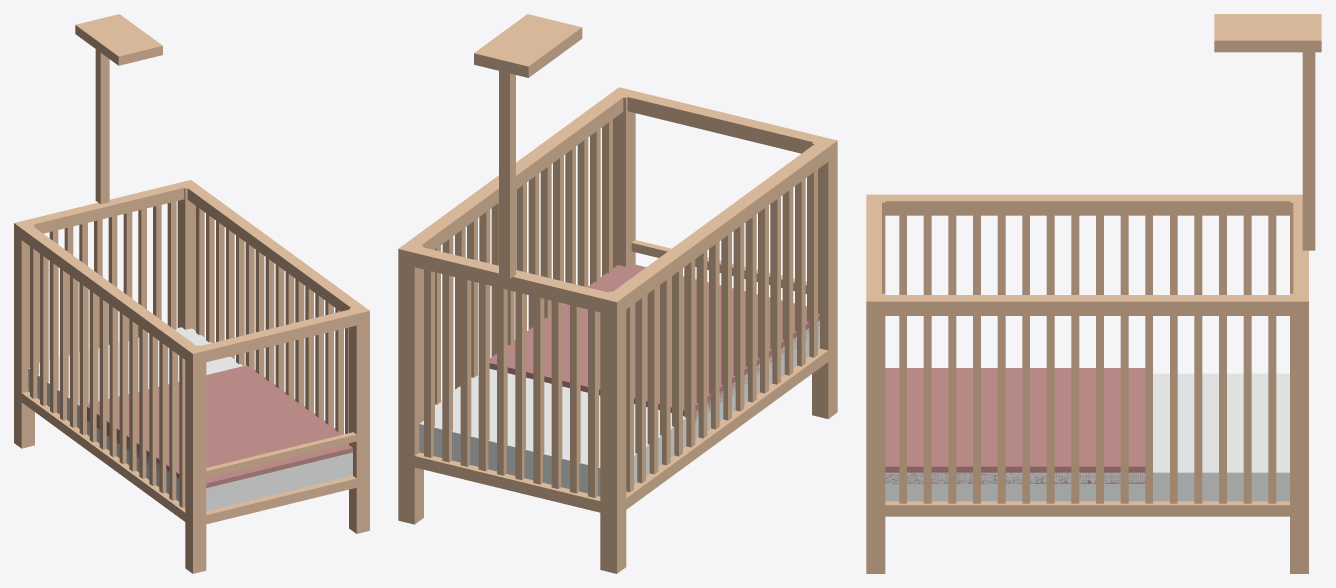
File: cribCanopy.glb
3 views of the same model, side by side, from view 1: azimuth 30°, elevation 25°; view 2: azimuth 150°, elevation 25°; view 3: azimuth 270°, elevation 25° (orthographic). The views are drawn at different scales.
Parts seen in each view (by area): view 1: cribCanopy; view 2: cribCanopy; view 3: cribCanopy.
Part boxes in pixels (x1,y1,x2,y2): cribCanopy: [14, 14, 369, 573]; cribCanopy: [398, 14, 837, 573]; cribCanopy: [866, 14, 1321, 573].
Bounding box in the file's own units: 0.4 × 0.86 × 0.72.
